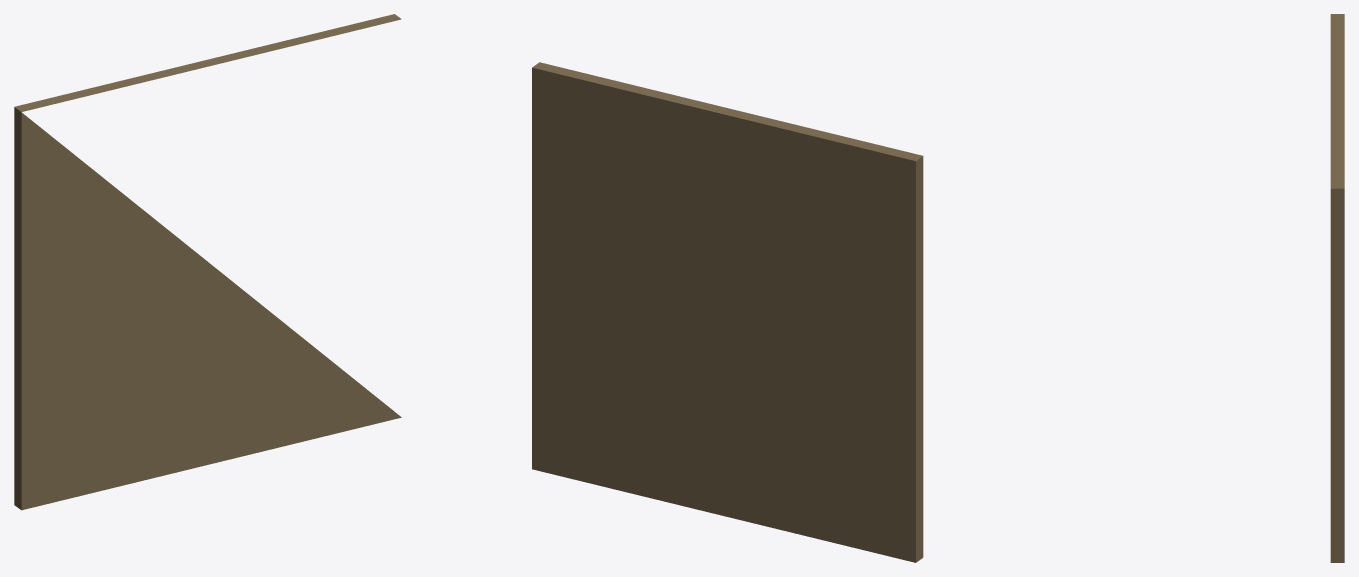
File: grass_medium.glb
3 renders of one model, left to right at view 1: azimuth 30°, elevation 25°; view 2: azimuth 150°, elevation 25°; view 3: azimuth 270°, elevation 25°, orthographic. The views are drawn at different scales.
Parts seen in each view (by area): view 1: geometry_0; view 2: geometry_0; view 3: geometry_0.
Part boxes in pixels (x1=…): geometry_0: x1=14, y1=14, x2=401, y2=510; geometry_0: x1=532, y1=62, x2=923, y2=562; geometry_0: x1=1330, y1=14, x2=1344, y2=562.
Size of the model in its own units: 0.3 by 0.3 by 0.2084.
